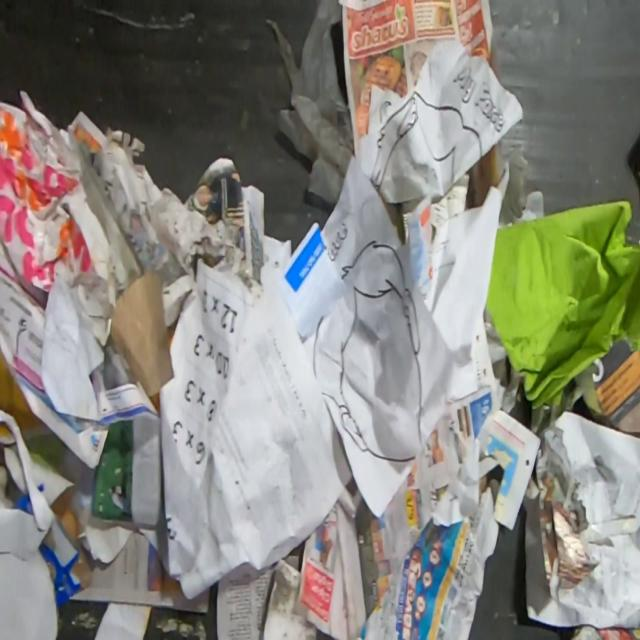cardboard: (482, 199, 640, 415)
soft_plastic: (265, 0, 354, 205)
